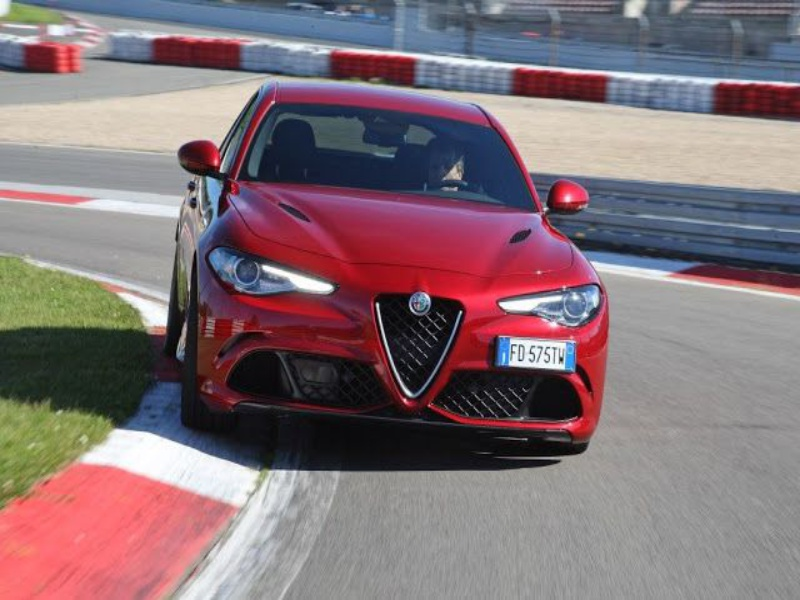licence_plate: (485, 325, 588, 385)
